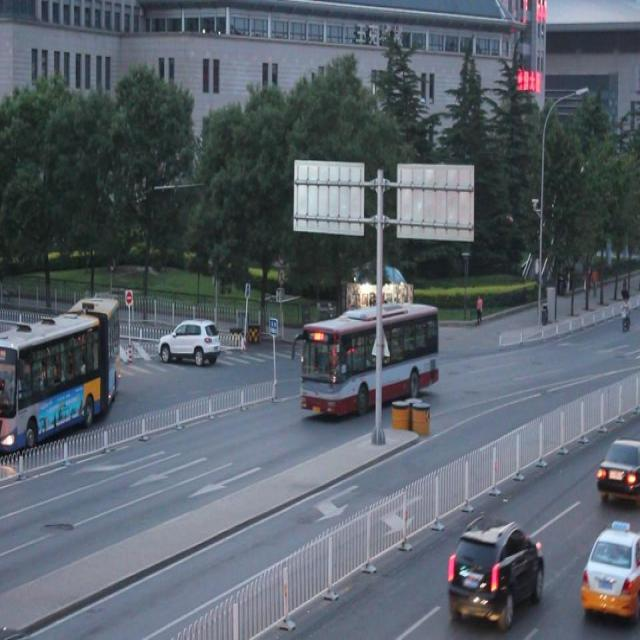car: (445, 508, 544, 630), (578, 518, 640, 614), (157, 312, 220, 364), (595, 432, 640, 502)
van: (1, 292, 122, 440), (299, 304, 438, 419)
